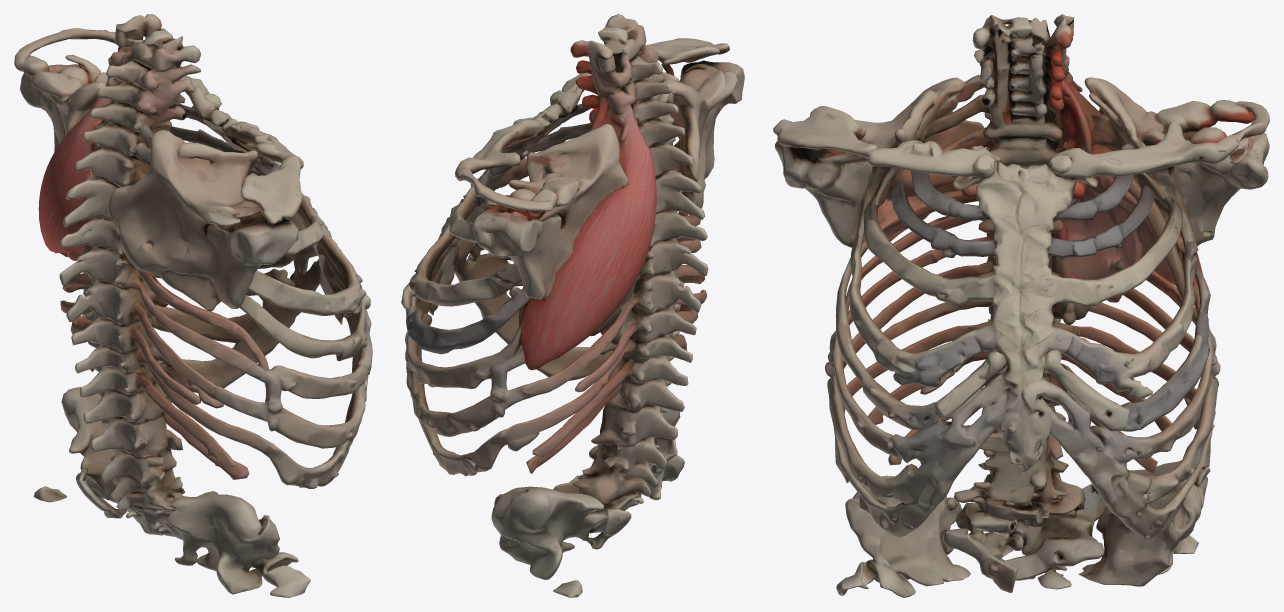
Rendered from ribcage.glb.
The picture shows the model from 3 angles, left to right: view 1: azimuth 30°, elevation 25°; view 2: azimuth 150°, elevation 25°; view 3: azimuth 270°, elevation 25°; orthographic projection. The views are drawn at different scales.
Parts seen in each view (by area): view 1: tripo_node_d3407802-7364-4345-968b-773cc784b423; view 2: tripo_node_d3407802-7364-4345-968b-773cc784b423; view 3: tripo_node_d3407802-7364-4345-968b-773cc784b423.
Part boxes in pixels (x1=…): tripo_node_d3407802-7364-4345-968b-773cc784b423: x1=14, y1=14, x2=372, y2=597; tripo_node_d3407802-7364-4345-968b-773cc784b423: x1=401, y1=14, x2=744, y2=597; tripo_node_d3407802-7364-4345-968b-773cc784b423: x1=773, y1=14, x2=1269, y2=597.
Size of the model in its own units: 0.5849 by 1 by 0.8228.
1 material, 1 textured.
